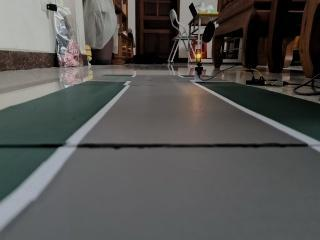yellow: (192, 44, 212, 69)
